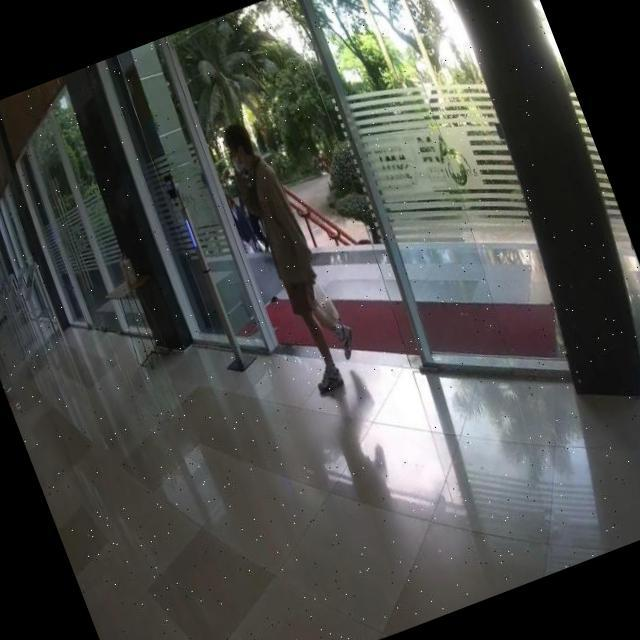person: (214, 107, 372, 396)
